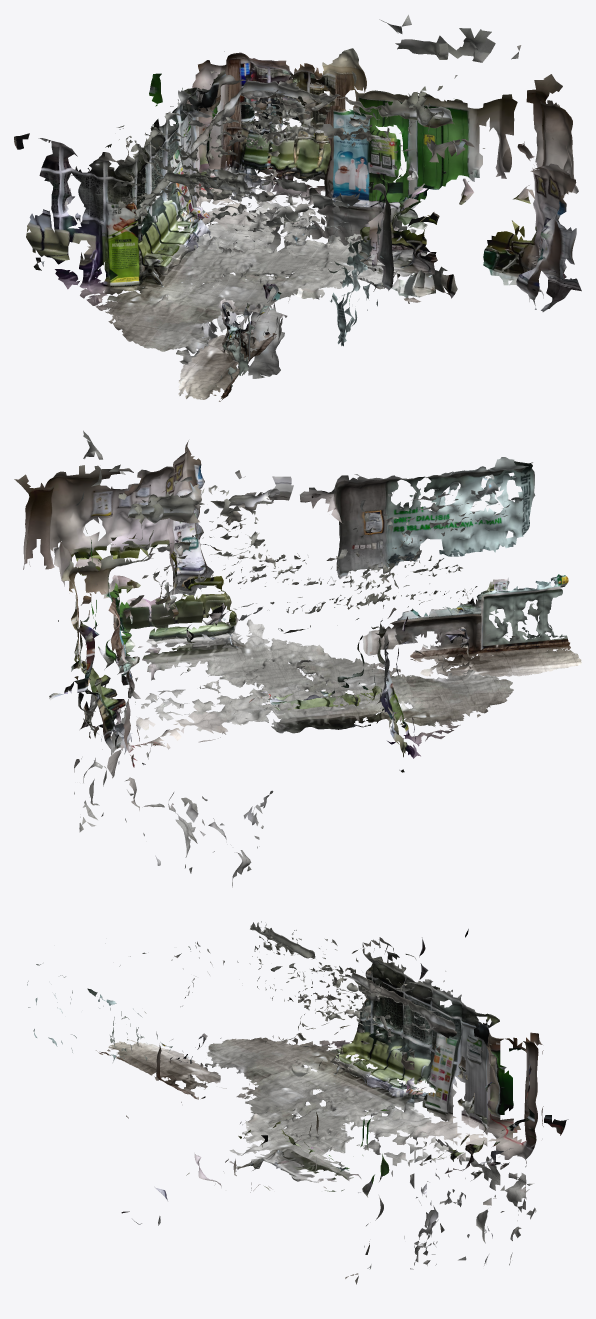
The model's file is 144552-1B-tex.glb.
The picture shows the model from 3 angles, top to bottom: view 1: azimuth 30°, elevation 25°; view 2: azimuth 150°, elevation 25°; view 3: azimuth 270°, elevation 25°; orthographic projection. The views are drawn at different scales.
Visible parts, largest first — view 1: Node; view 2: Node; view 3: Node.
Boxes of the visible parts, <box> form: Node: <box>14,14,581,401</box>; Node: <box>14,430,581,887</box>; Node: <box>27,921,568,1284</box>.
Size of the model in its own units: 10.32 by 7.5 by 11.25.
24 materials, 24 textured.
